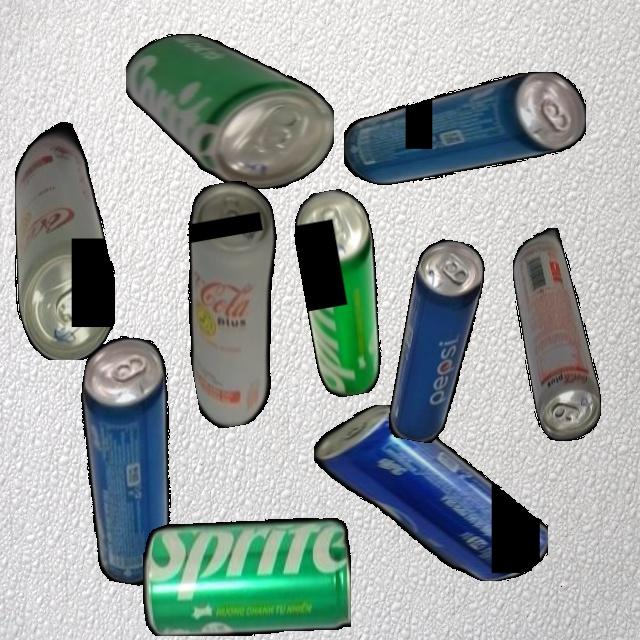debris: (313, 405, 548, 581), (50, 331, 203, 589), (162, 176, 308, 431), (125, 34, 334, 189), (343, 72, 586, 185), (142, 517, 351, 636), (14, 115, 115, 360), (288, 185, 399, 400), (386, 236, 489, 447), (512, 227, 601, 441)
